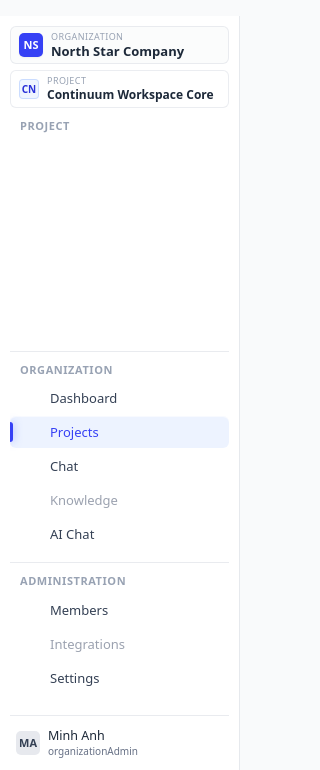
Test: AppSidebar navigation › opens a dropdown containing exactly the organizations available to the account
Expected: the text "North Star Company" is shown, [51,42,184,60]
Step 1. Click the button with aria-label "Choose organization" → point(120, 45), box [10,26,229,64]
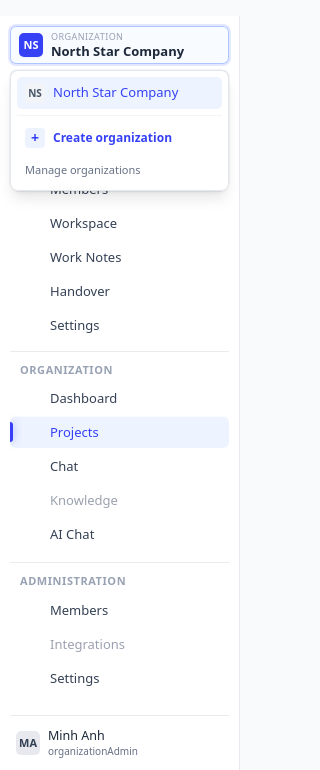
Expected: the element "organizations" is shown, [10,70,229,191]
Expected: the 2nd text "North Star Company" is shown, [53,83,178,101]
